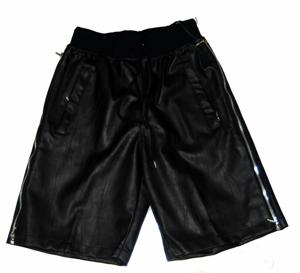C_shorts: (2, 14, 299, 266)
